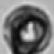correct: (4, 3, 52, 54)
